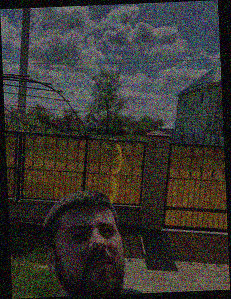without_mask: (58, 214, 123, 296)
